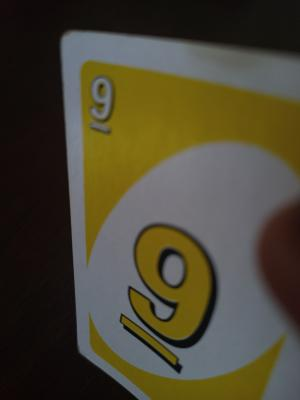num_9: (80, 70, 134, 164)
yellow: (108, 192, 234, 369)
